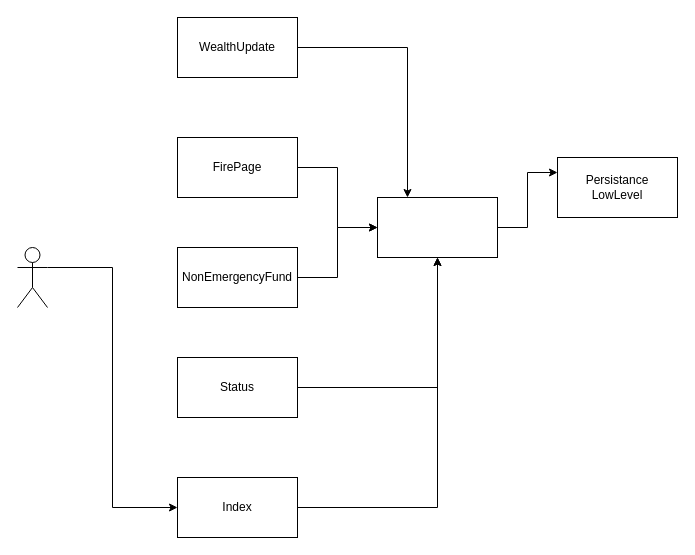
This 695x555 diagram has some shape labels left out. Each missing label, with the box of its shape:
DataPersistanceApi: (376, 196, 498, 258)
User: (16, 246, 48, 308)
